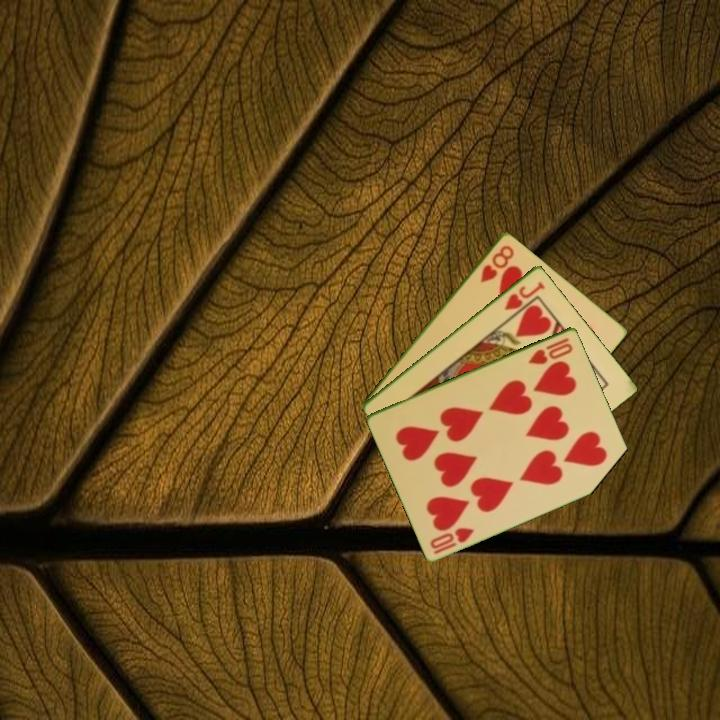10h: (426, 523, 477, 557), (525, 334, 576, 367)
8h: (477, 241, 517, 285)
Jh: (501, 277, 548, 313)
